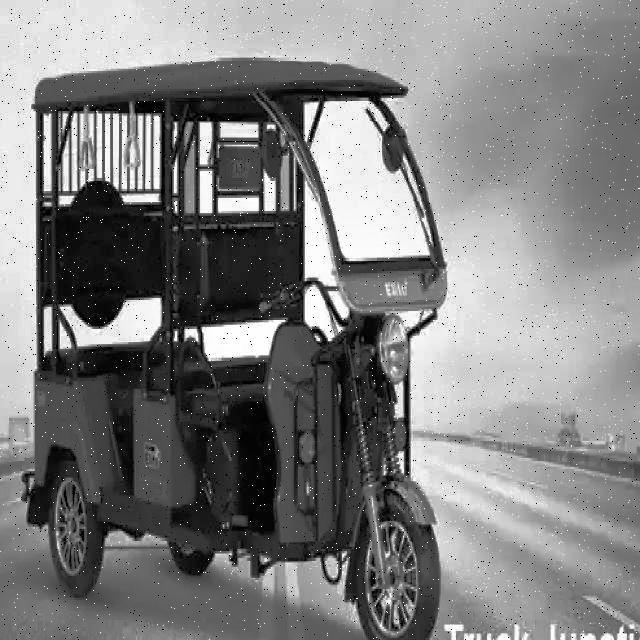Toto: (22, 44, 448, 640)
